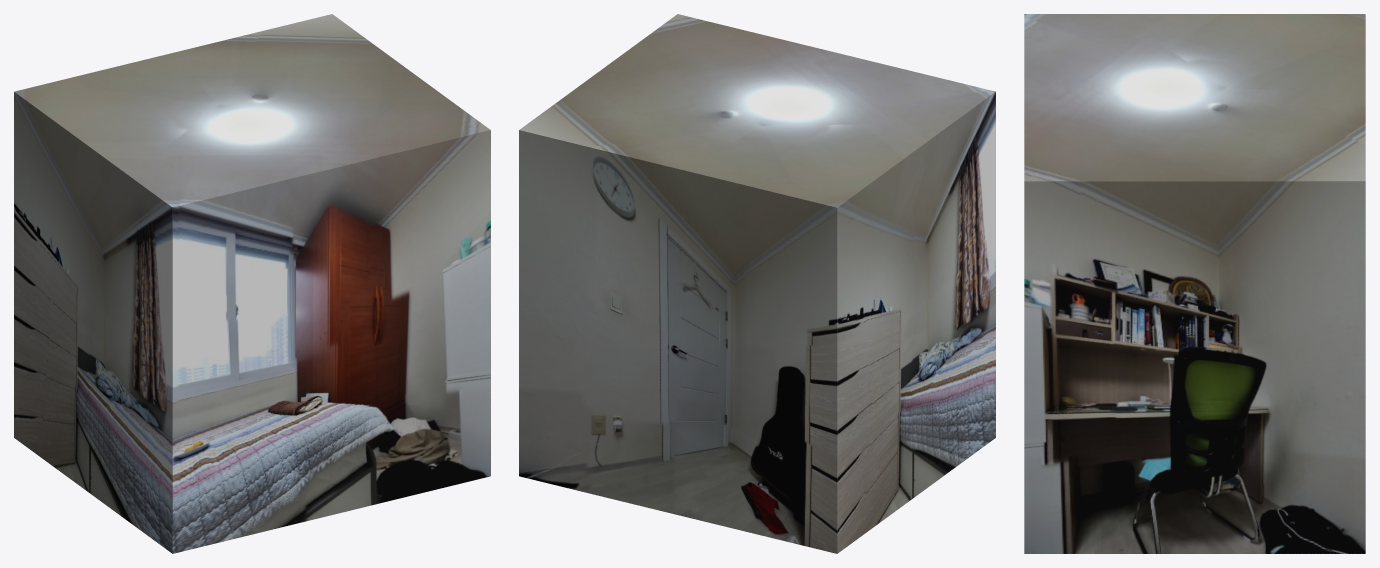
Rendered from room.obj.
The picture shows the model from 3 angles, left to right: view 1: azimuth 30°, elevation 25°; view 2: azimuth 150°, elevation 25°; view 3: azimuth 270°, elevation 25°; orthographic projection. The views are drawn at different scales.
Visible parts, largest first — view 1: wall_03, wall_00, ceiling; view 2: wall_01, wall_00, ceiling; view 3: wall_02, ceiling.
Part boxes in pixels (x1=…): wall_03: x1=172, y1=130, x2=490, y2=553; wall_00: x1=14, y1=92, x2=172, y2=553; ceiling: x1=14, y1=14, x2=490, y2=207; wall_01: x1=519, y1=130, x2=837, y2=553; wall_00: x1=837, y1=92, x2=995, y2=553; ceiling: x1=519, y1=14, x2=995, y2=207; wall_02: x1=1024, y1=181, x2=1365, y2=553; ceiling: x1=1024, y1=14, x2=1365, y2=181.
Bounding box in the file's own units: 2.86 × 2.98 × 2.47.
Materials: 6 (6 with a texture image).
